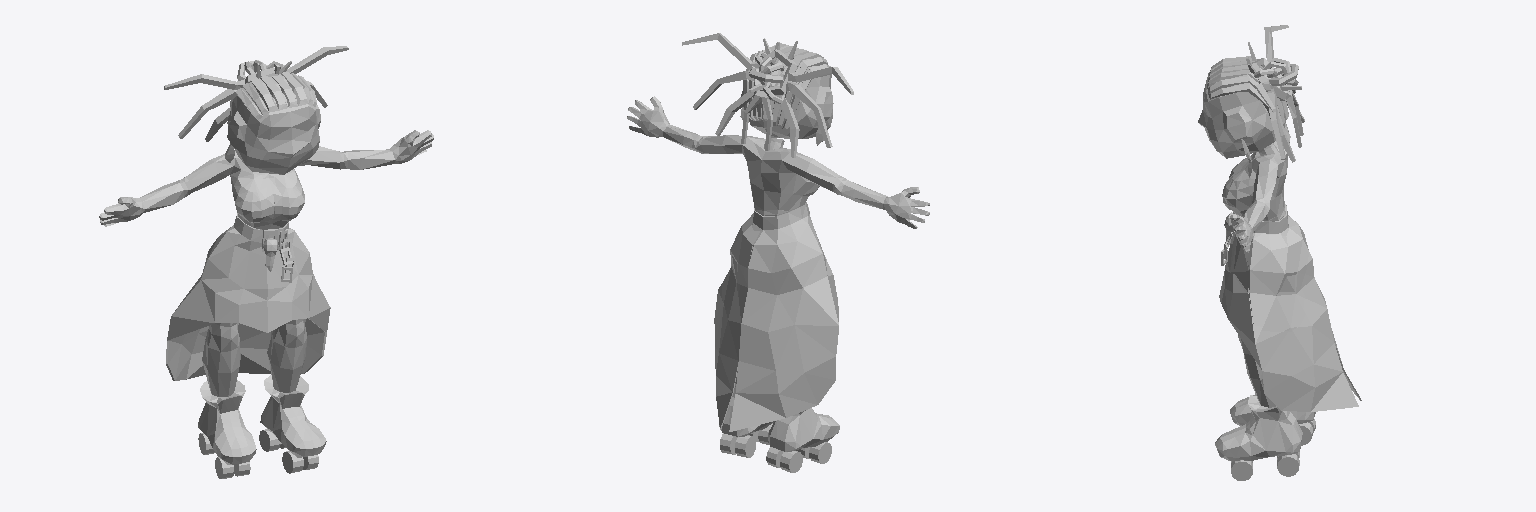
File: bruja_000075.obj
3 renders of one model, left to right at view 1: azimuth 30°, elevation 25°; view 2: azimuth 150°, elevation 25°; view 3: azimuth 270°, elevation 25°, orthographic.
Visible parts, largest first — view 1: Bruja_Plane.001; view 2: Bruja_Plane.001; view 3: Bruja_Plane.001.
Part boxes in pixels (x1,y1,x2,y2): Bruja_Plane.001: (99, 46, 433, 478); Bruja_Plane.001: (627, 33, 929, 472); Bruja_Plane.001: (1198, 25, 1361, 480).
Size of the model in its own units: 13.31 by 16.59 by 5.98.